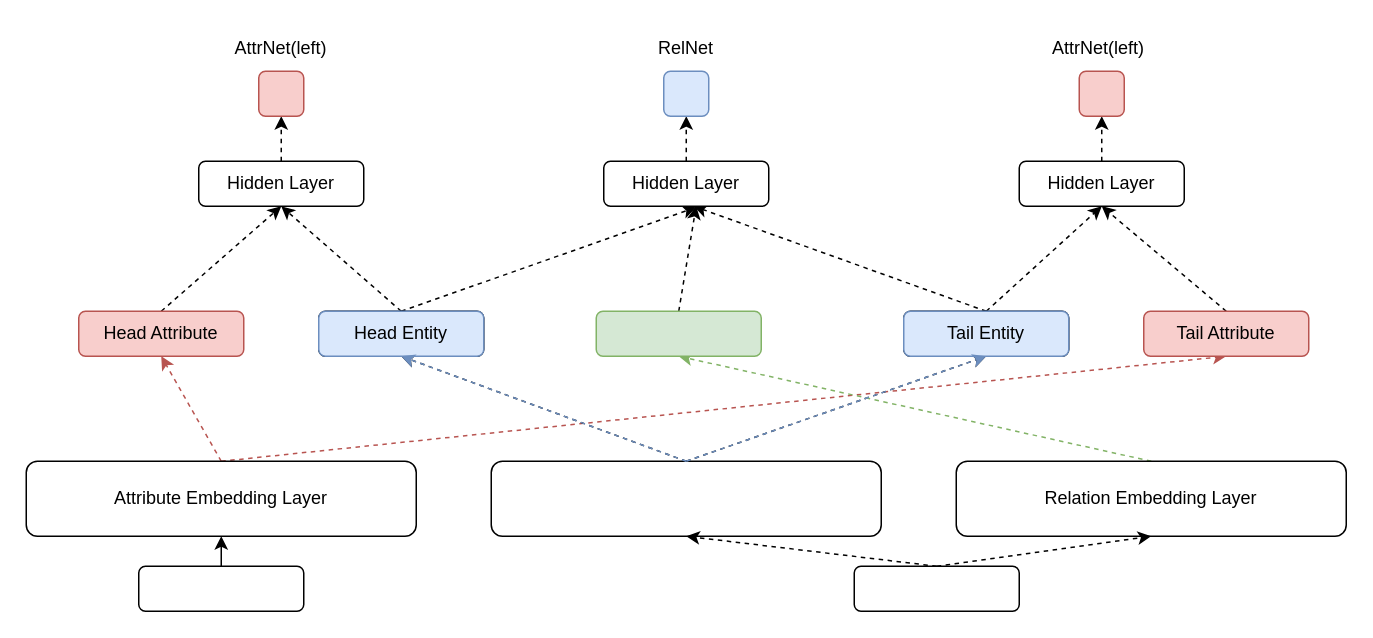
The diagram is 1373 pixels wide and 638 high, and some of its shapes have lost their labels. Each missing label, with the centre of its shape:
a i ，a j: the point at 220,588
e i ，r k ，e j: the point at 936,588
Entity Embedding Layer: the point at 685,498
Relation: the point at 678,333
